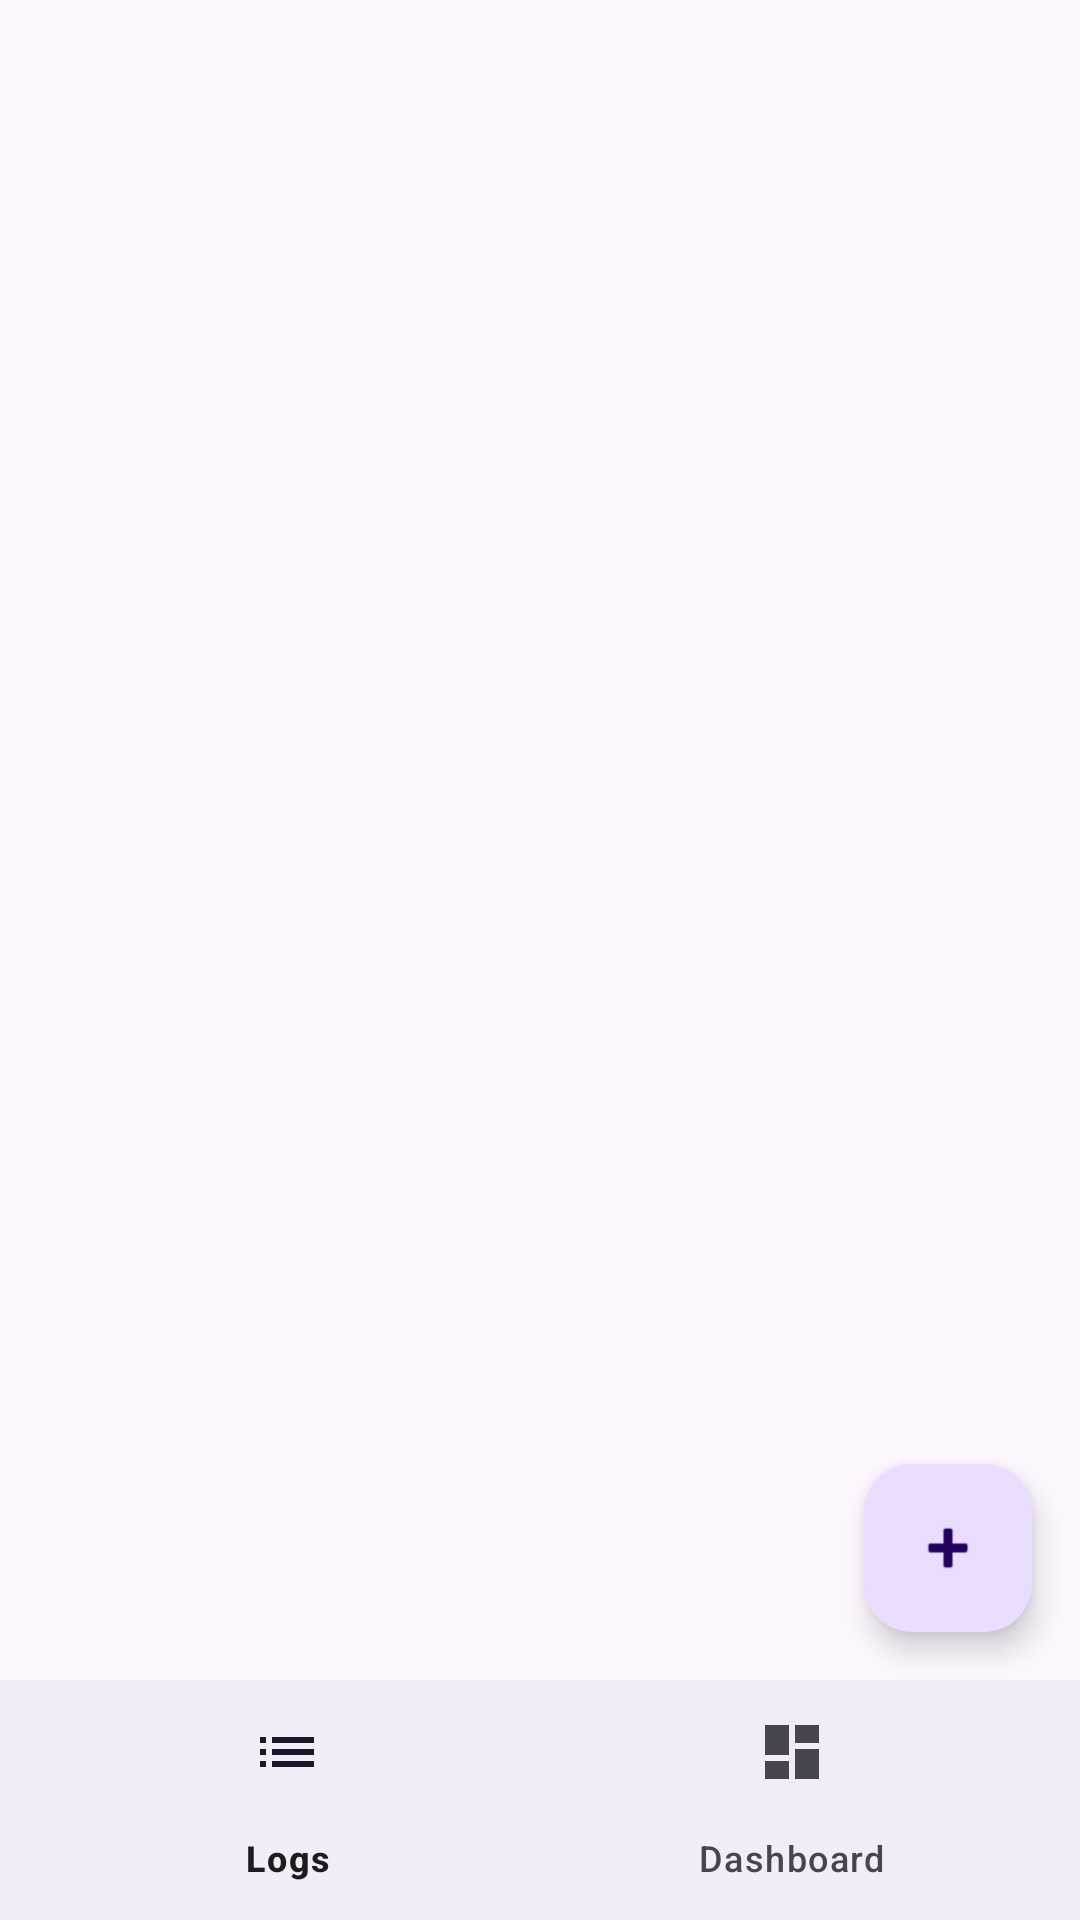

Point at icon controls on the screen. Image size 1080px×1920px, points as (x,y).
Add sleep entry: (948,1548)
